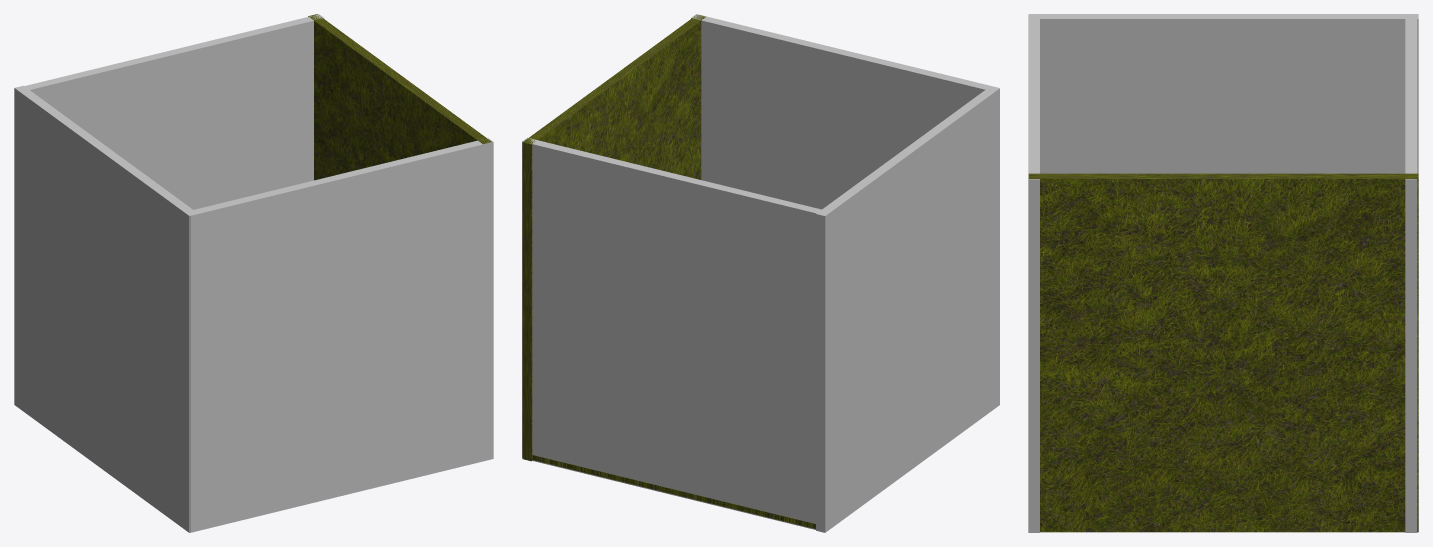
Rendered from Physics.obj.
3 views of the same model, side by side, from view 1: azimuth 30°, elevation 25°; view 2: azimuth 150°, elevation 25°; view 3: azimuth 270°, elevation 25° (orthographic). The views are drawn at different scales.
Parts seen in each view (by area): view 1: Duplicate02, Duplicate00, Duplicate01, Box01; view 2: Duplicate01, Duplicate00, Duplicate02, Box01; view 3: Box01, Duplicate00, Duplicate01, Duplicate02.
Boxes of the visible parts, x1,y1,x2,y2 form: Duplicate02: (188, 138, 493, 532); Duplicate00: (14, 85, 197, 532); Duplicate01: (23, 14, 324, 209); Box01: (308, 14, 491, 180); Duplicate01: (522, 137, 824, 529); Duplicate00: (816, 86, 999, 532); Duplicate02: (691, 14, 998, 209); Box01: (522, 14, 815, 528); Box01: (1028, 173, 1418, 532); Duplicate00: (1028, 14, 1418, 173); Duplicate01: (1405, 15, 1417, 532); Duplicate02: (1028, 14, 1039, 532).
Size of the model in its own units: 78.9 by 78.6 by 78.7.
